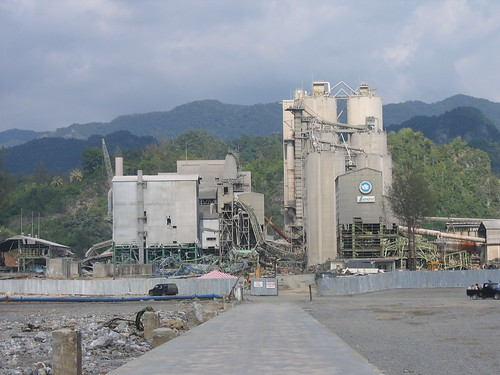building: (280, 82, 388, 272), (117, 159, 287, 269)
sky: (1, 1, 500, 98)
vegetation: (1, 145, 107, 233), (397, 133, 499, 217)
